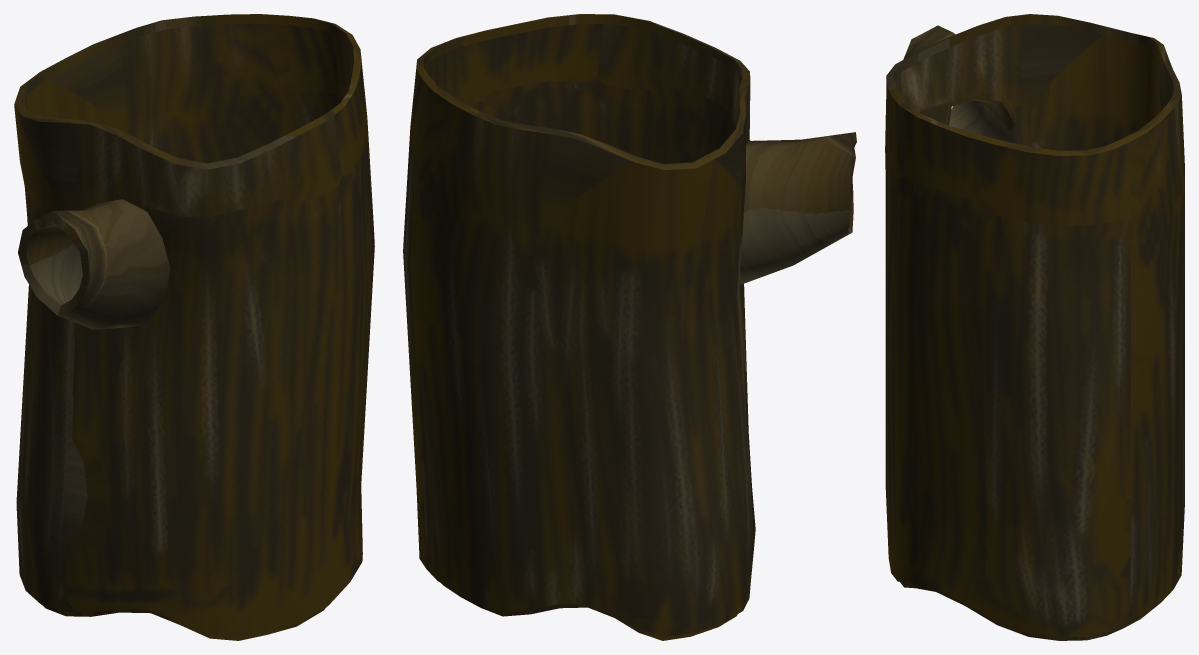
File: tronco_cerrado.glb
The picture shows the model from 3 angles, left to right: view 1: azimuth 30°, elevation 25°; view 2: azimuth 150°, elevation 25°; view 3: azimuth 270°, elevation 25°; orthographic projection.
Parts seen in each view (by area): view 1: tronco_cerrado-col; view 2: tronco_cerrado-col; view 3: tronco_cerrado-col.
Boxes of the visible parts, box(x1,y1,x2,y2) form: tronco_cerrado-col: box(14, 14, 374, 640); tronco_cerrado-col: box(403, 14, 856, 640); tronco_cerrado-col: box(885, 14, 1184, 640).
Bounding box in the file's own units: 3.55 × 4.33 × 2.39.
Materials: 1 (1 with a texture image).
